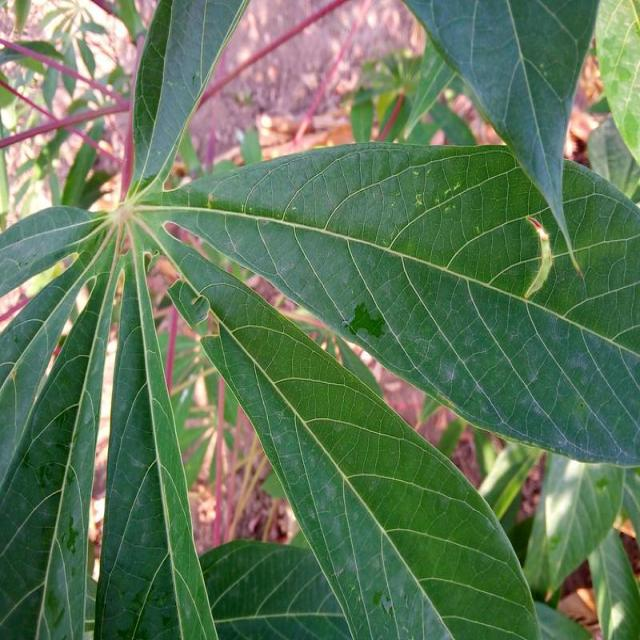cassava leaf: (2, 1, 638, 638), (145, 139, 640, 468), (158, 217, 544, 638)
